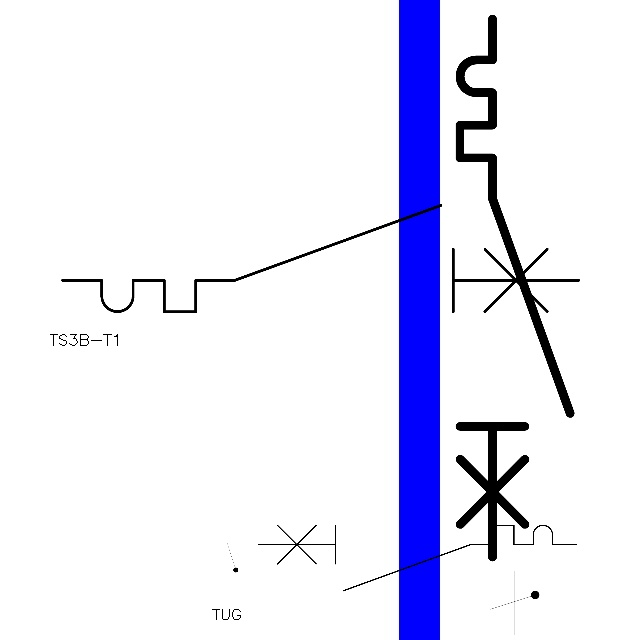interruptor_termomagnetico: (446, 5, 584, 570), (49, 192, 592, 325), (249, 517, 584, 599)
